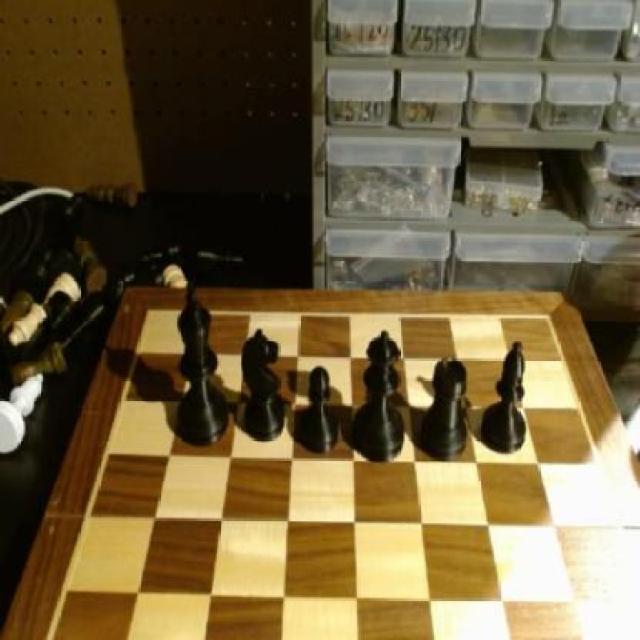black-bishop: (177, 287, 232, 448)
black-king: (238, 319, 292, 453)
black-knight: (302, 358, 344, 456)
black-pawn: (354, 324, 409, 464)
black-queen: (480, 338, 538, 462), (423, 348, 472, 464)
